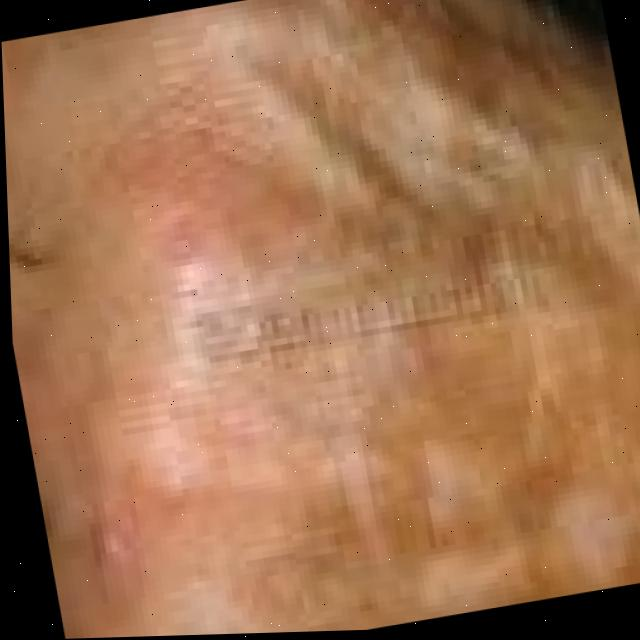Melasma: (148, 57, 640, 636)
